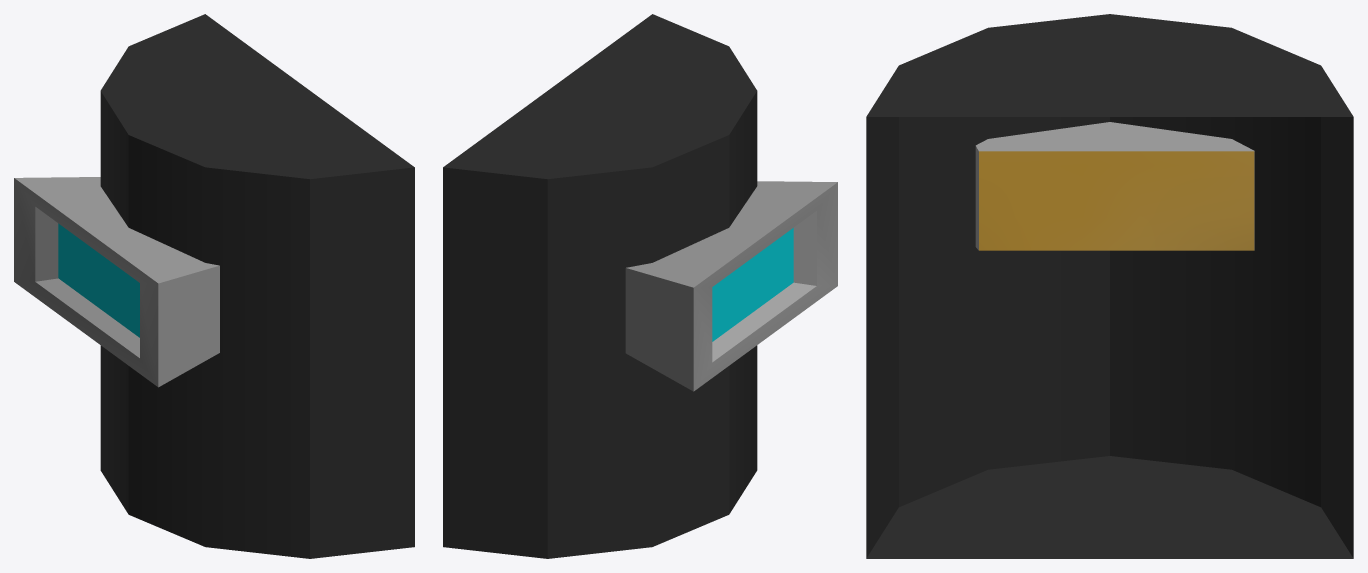
The model's file is MascaraDeSolda.fbx.
3 renders of one model, left to right at view 1: azimuth 30°, elevation 25°; view 2: azimuth 150°, elevation 25°; view 3: azimuth 270°, elevation 25°, orthographic. The views are drawn at different scales.
Parts seen in each view (by area): view 1: Interior.003; view 2: Interior.003; view 3: Interior.003.
Part boxes in pixels (bbox=[...]): Interior.003: bbox=[14, 14, 414, 558]; Interior.003: bbox=[443, 14, 837, 558]; Interior.003: bbox=[866, 14, 1353, 558].
Bounding box in the file's own units: 17.79 × 29.22 × 29.22.
Materials: 1 (1 with a texture image).
